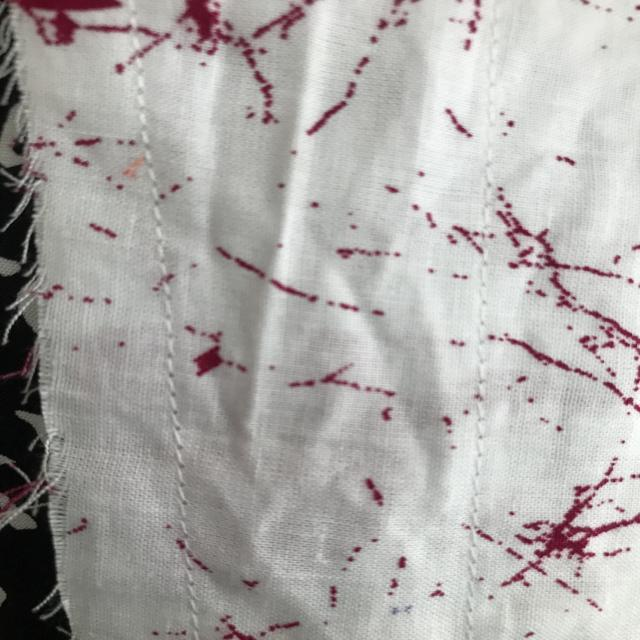good: (132, 227, 216, 488), (462, 443, 492, 602)
